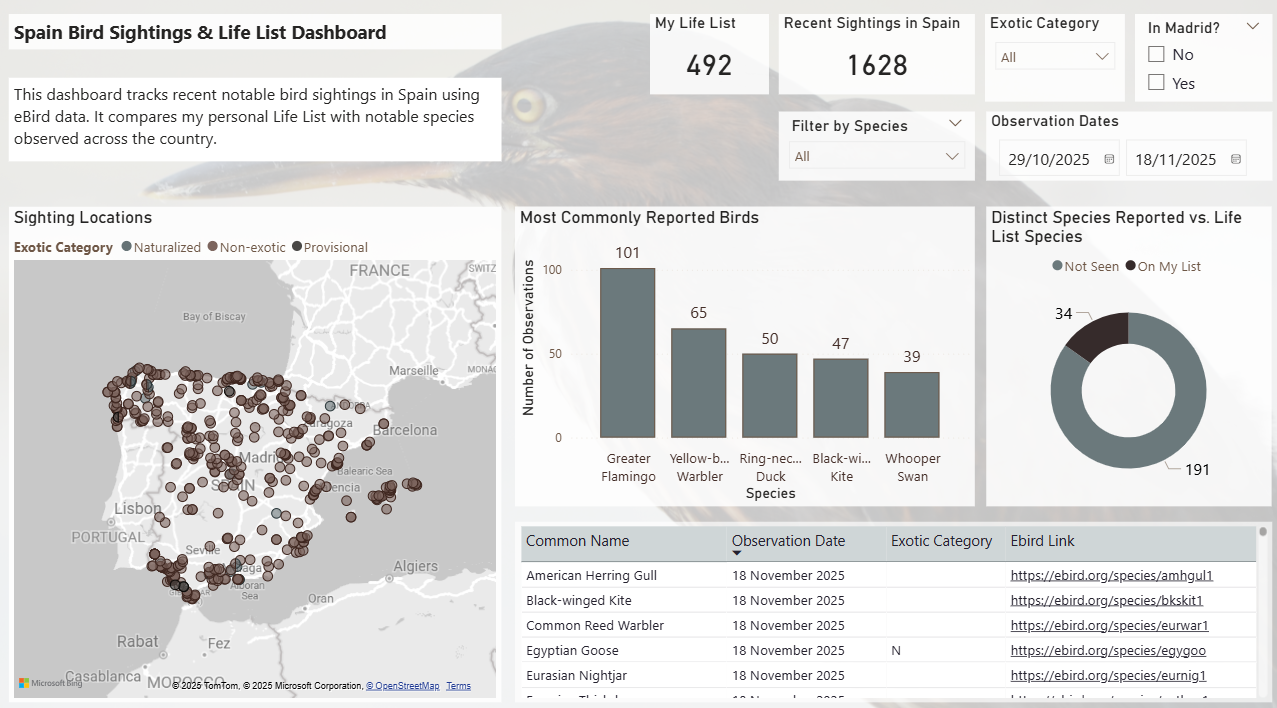

This screenshot's page, from the dashboard's own definition file:
{"tool":"powerbi","page":{"name":"Dashboard","canvas":[1280,720],"ordinal":0},"visuals":[{"type":"map","title":"Sighting Locations","fields":{"Y":["bird_data.lat"],"X":["bird_data.lng"],"Series":["bird_data.Exotic"]},"box":[13.7,216.4,490.1,493.9],"z":0},{"type":"card","title":"Recent Sightings in Spain","fields":{"Values":["CountNonNull(bird_data.comName)"]},"box":[780,24.9,195.3,79.6],"z":1000},{"type":"slicer","fields":{"Values":["bird_data.InMadrid"]},"box":[1134.5,24.9,136.8,87.1],"z":2000},{"type":"card","title":"My Life List","fields":{"Values":["Count(MyEBirdData.Scientific Name)"]},"box":[651.8,24.9,118.2,79.6],"z":3000},{"type":"slicer","title":"Observation Dates","fields":{"Values":["bird_data.obsDt"]},"box":[986.5,121.9,284.9,68.4],"z":4000},{"type":"donutChart","title":"Distinct Species Reported vs. Life List Species","fields":{"Category":["bird_data.OnMyList"],"Y":["Count(bird_data.comName)"]},"box":[986.5,216.4,283.6,298.6],"z":5000},{"type":"slicer","fields":{"Values":["bird_data.comName"]},"box":[780,121.9,195.3,68.4],"z":6000},{"type":"tableEx","fields":{"Values":["bird_data.comName","bird_data.obsDt","bird_data.exoticCategory","bird_data.Ebird"]},"box":[517.5,529.9,753.8,180.4],"z":7000},{"type":"clusteredColumnChart","title":"Most Commonly Reported Birds","fields":{"Category":["bird_data.comName"],"Y":["CountNonNull(bird_data.comName)"]},"box":[517.5,216.4,457.8,298.6],"z":8000},{"type":"slicer","title":"Exotic Category","fields":{"Values":["bird_data.Exotic"]},"box":[985.2,24.9,139.3,87.1],"z":9000},{"type":"textbox","box":[13.7,24.9,490.1,34.8],"z":10000},{"type":"textbox","box":[13.7,88.3,490.1,83.3],"z":11000}]}

Visuals, with their boxes in screenshot pixels (x1, y1, x2, y2), scaled from the page's 1280x720 canvas onto the 1277x708 screenshot:
"Sighting Locations" map: crop(14, 213, 503, 698)
"Recent Sightings in Spain" card: crop(778, 24, 973, 103)
slicer - bird_data.InMadrid: crop(1132, 24, 1268, 110)
"My Life List" card: crop(650, 24, 768, 103)
"Observation Dates" slicer: crop(984, 120, 1268, 187)
"Distinct Species Reported vs. Life List Species" donutChart: crop(984, 213, 1267, 506)
slicer - bird_data.comName: crop(778, 120, 973, 187)
tableEx - bird_data.comName x bird_data.obsDt: crop(516, 521, 1268, 698)
"Most Commonly Reported Birds" clusteredColumnChart: crop(516, 213, 973, 506)
"Exotic Category" slicer: crop(983, 24, 1122, 110)
textbox: crop(14, 24, 503, 59)
textbox: crop(14, 87, 503, 169)
